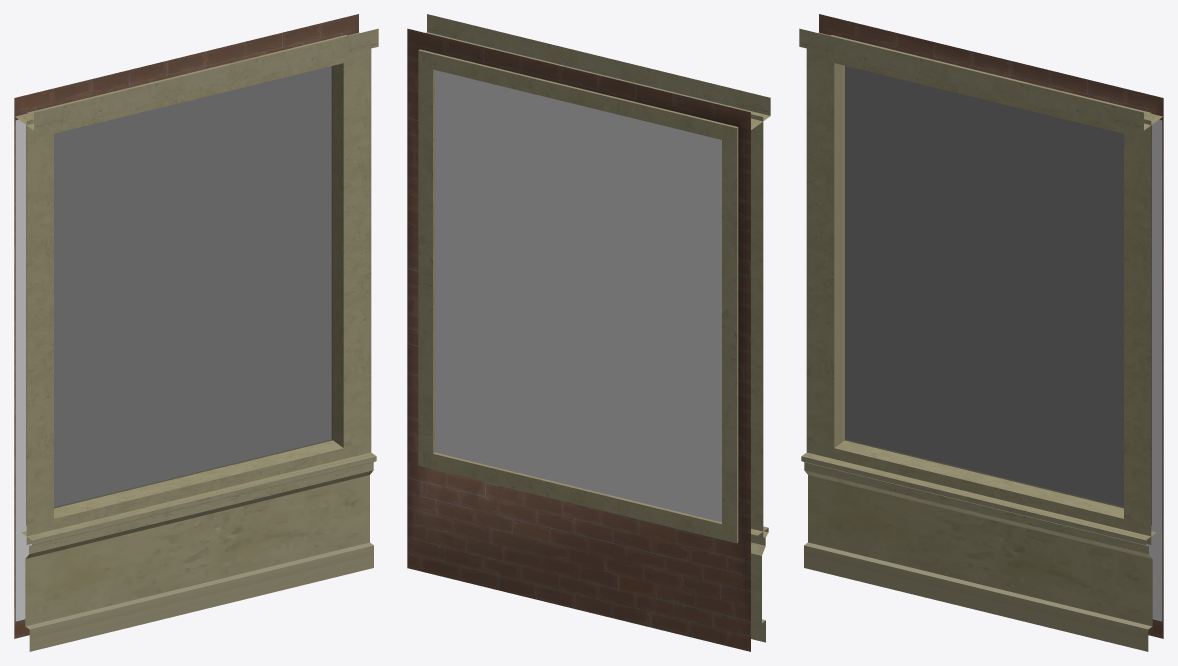
Rendered from Trim_FirstFloor_Window_001.glb.
3 renders of one model, left to right at view 1: azimuth 30°, elevation 25°; view 2: azimuth 150°, elevation 25°; view 3: azimuth 330°, elevation 25°, orthographic.
Visible parts, largest first — view 1: Trim_FirstFloor_Window.001; view 2: Trim_FirstFloor_Window.001; view 3: Trim_FirstFloor_Window.001.
Part boxes in pixels (x1=…): Trim_FirstFloor_Window.001: x1=14, y1=14, x2=378, y2=651; Trim_FirstFloor_Window.001: x1=407, y1=14, x2=770, y2=651; Trim_FirstFloor_Window.001: x1=799, y1=14, x2=1163, y2=651.
Size of the model in its own units: 2 by 3.01 by 0.2152.
4 materials, 2 textured.
